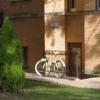Bicycle: (30, 47, 68, 81)
